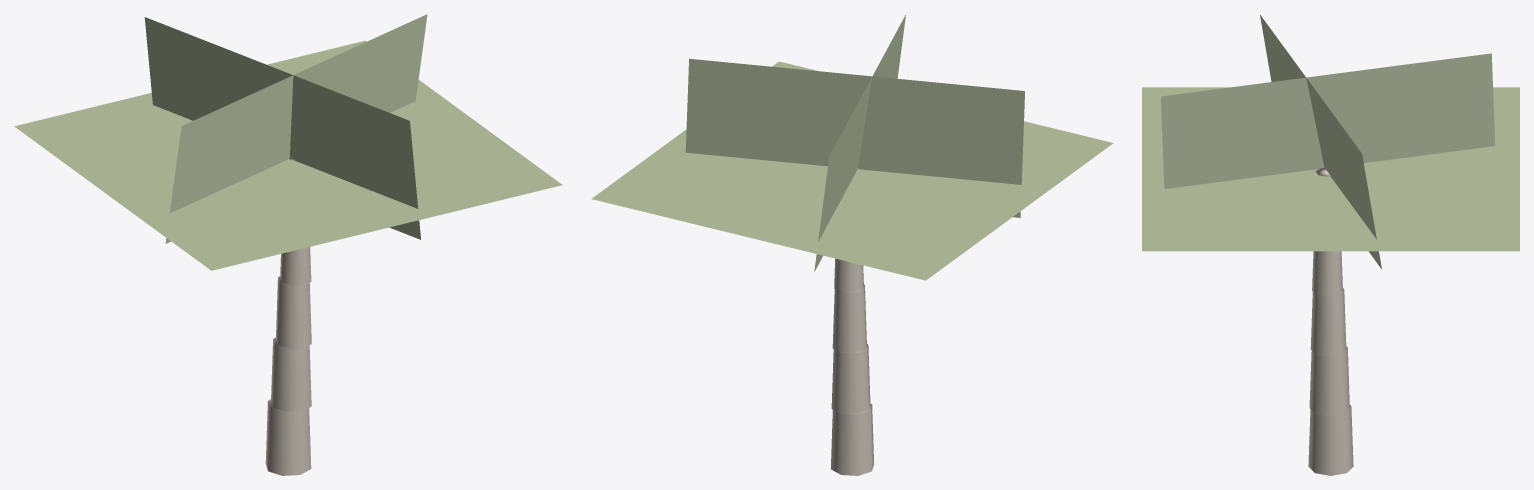
The model's file is palm-v1.lod2.glb.
The picture shows the model from 3 angles, left to right: view 1: azimuth 30°, elevation 25°; view 2: azimuth 150°, elevation 25°; view 3: azimuth 270°, elevation 25°; orthographic projection. The views are drawn at different scales.
Visible parts, largest first — view 1: palm-v1.lod2; view 2: palm-v1.lod2; view 3: palm-v1.lod2.
Part boxes in pixels (<box>): palm-v1.lod2: <box>14,14,562,475</box>; palm-v1.lod2: <box>591,15,1113,475</box>; palm-v1.lod2: <box>1142,15,1519,475</box>.
Size of the model in its own units: 7.4 by 8.1 by 7.2.
